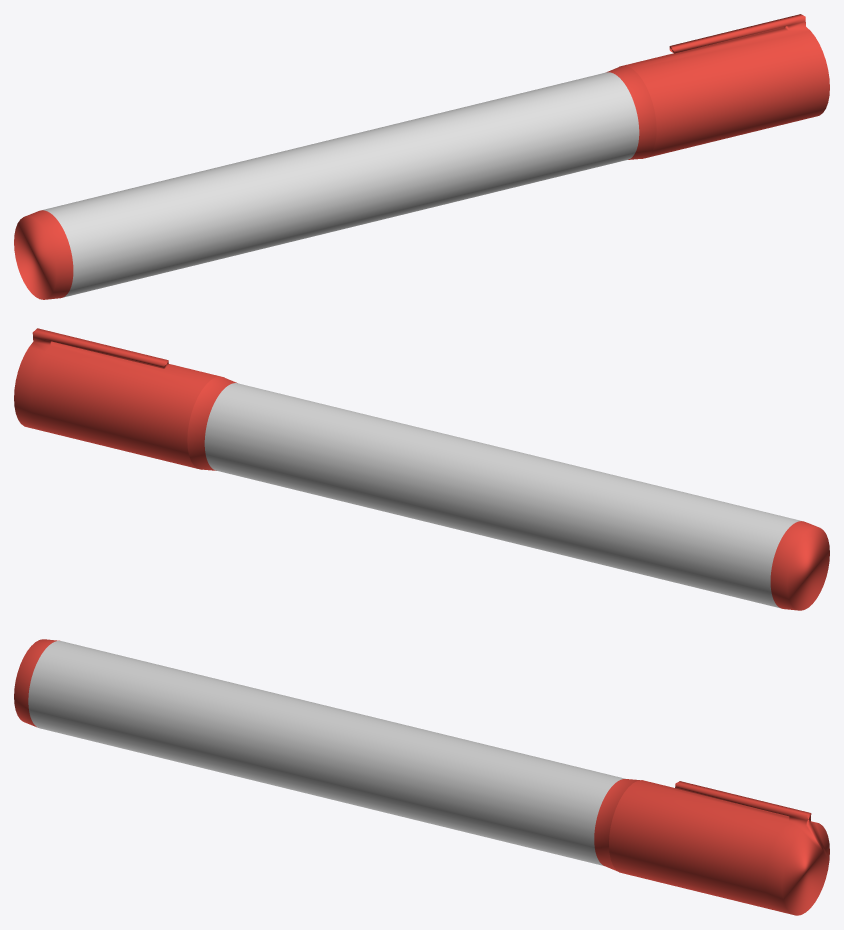
File: feutreRouge.fbx
3 renders of one model, top to bottom at view 1: azimuth 30°, elevation 25°; view 2: azimuth 150°, elevation 25°; view 3: azimuth 330°, elevation 25°, orthographic.
Visible parts, largest first — view 1: stylo; view 2: stylo; view 3: stylo.
Part boxes in pixels (x1,y1,x2,y2): stylo: (14,14,829,299); stylo: (14,328,829,610); stylo: (14,639,829,915).
Size of the model in its own units: 2.72 by 0.325 by 0.2924.
